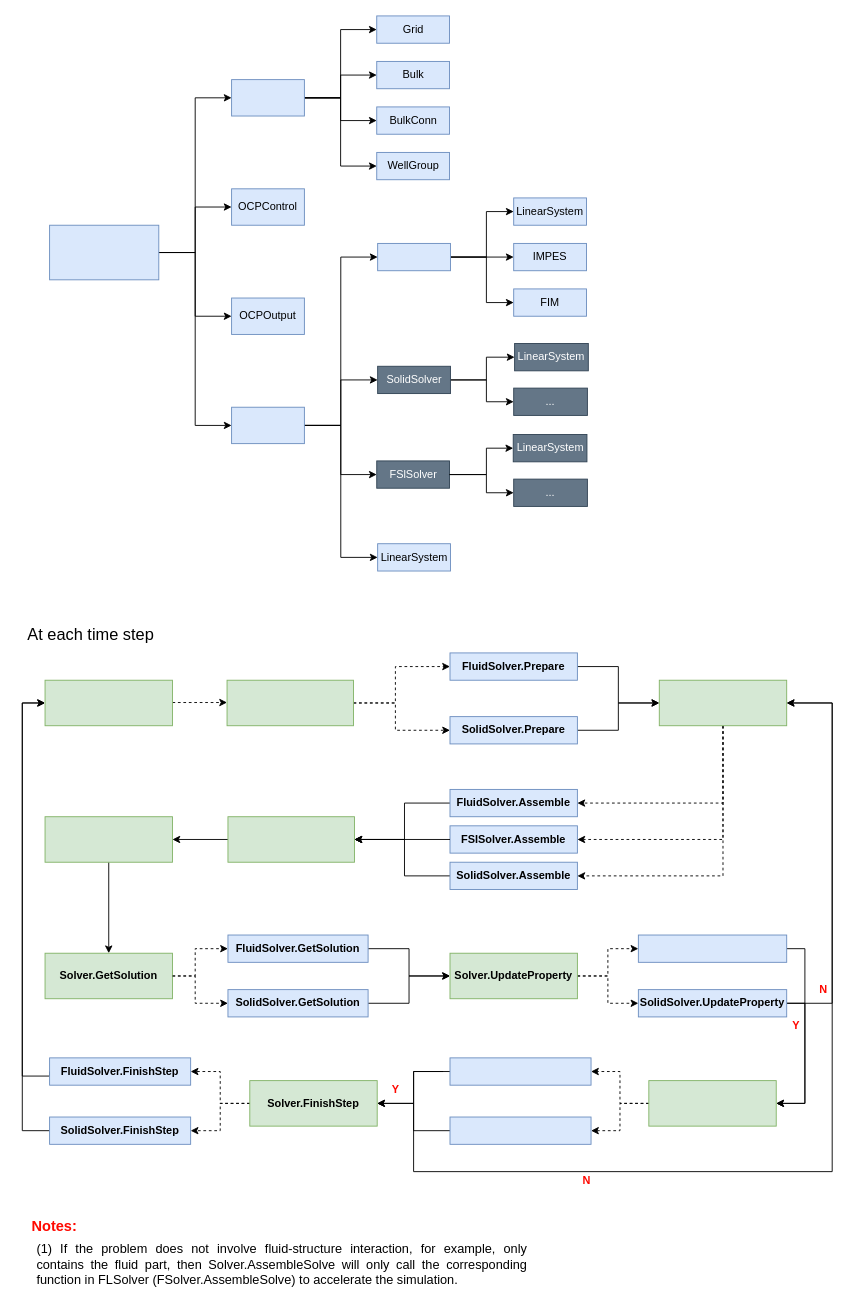
Image size: 855x1303. Some labels were removed from this diagram. Here are the shapes that lost their labels. From the top down, the box of each, then its label:
(231, 79, 304, 116): Reservoir
(49, 224, 159, 280): OpenCAEPoro
(377, 243, 450, 271): FluidSolver
(231, 406, 304, 444): Solver
(44, 679, 172, 726): Solver.GoOneStep
(226, 679, 354, 726): Solver.Prepare
(658, 679, 787, 726): Solver.AssembleSolve
(44, 816, 172, 862): Solver.Solve
(227, 816, 354, 862): Solver.Assemble
(637, 934, 787, 962): FluidSolver.UpdateProperty
(449, 1057, 591, 1085): FluidSolver.FinishNR
(648, 1080, 776, 1126): Solver.FinishNR
(449, 1116, 591, 1144): SolidSolver.FinishNR
